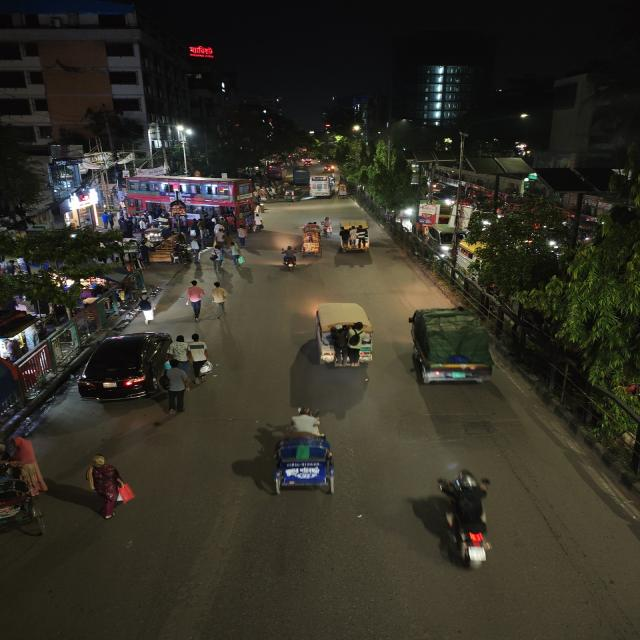bus: (129, 178, 253, 222), (309, 173, 335, 199), (290, 167, 311, 188)
car: (73, 328, 174, 406), (424, 226, 469, 257)
cng: (281, 190, 303, 204)
human_hauler: (307, 300, 377, 372), (338, 219, 373, 253)
motorcycle: (432, 464, 514, 572)
pedestrian: (80, 451, 134, 522), (175, 332, 214, 384), (157, 360, 191, 414), (181, 279, 206, 321), (207, 280, 232, 320), (135, 292, 159, 325), (206, 243, 228, 274), (278, 246, 300, 273), (320, 216, 335, 238)
pickup_van: (402, 304, 501, 391)
rickshaw: (256, 407, 352, 499), (0, 433, 51, 540)
